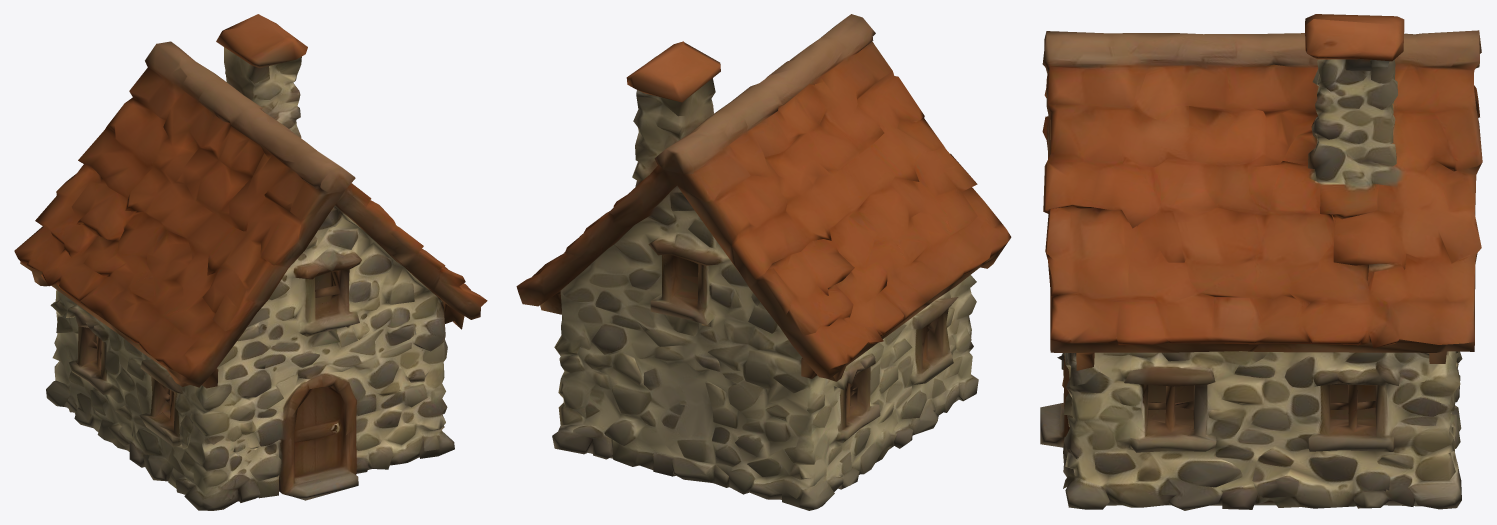
The model's file is tripo_stone_cottage.glb.
3 renders of one model, left to right at view 1: azimuth 30°, elevation 25°; view 2: azimuth 150°, elevation 25°; view 3: azimuth 270°, elevation 25°, orthographic. The views are drawn at different scales.
Visible parts, largest first — view 1: stone_cottage; view 2: stone_cottage; view 3: stone_cottage.
Boxes of the visible parts, x1=… form: stone_cottage: x1=14, y1=14, x2=487, y2=510; stone_cottage: x1=516, y1=14, x2=1011, y2=510; stone_cottage: x1=1040, y1=14, x2=1482, y2=510.
Size of the model in its own units: 7.09 by 7.8 by 6.93.
Materials: 1 (1 with a texture image).
